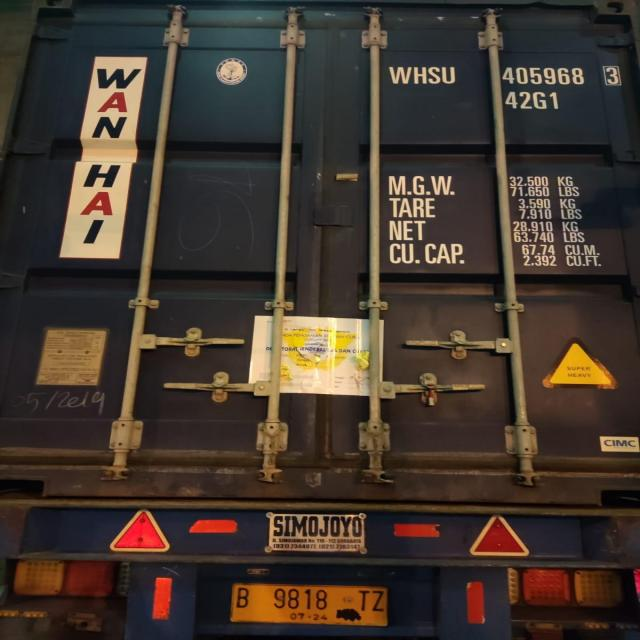seal: (422, 382, 438, 409)
